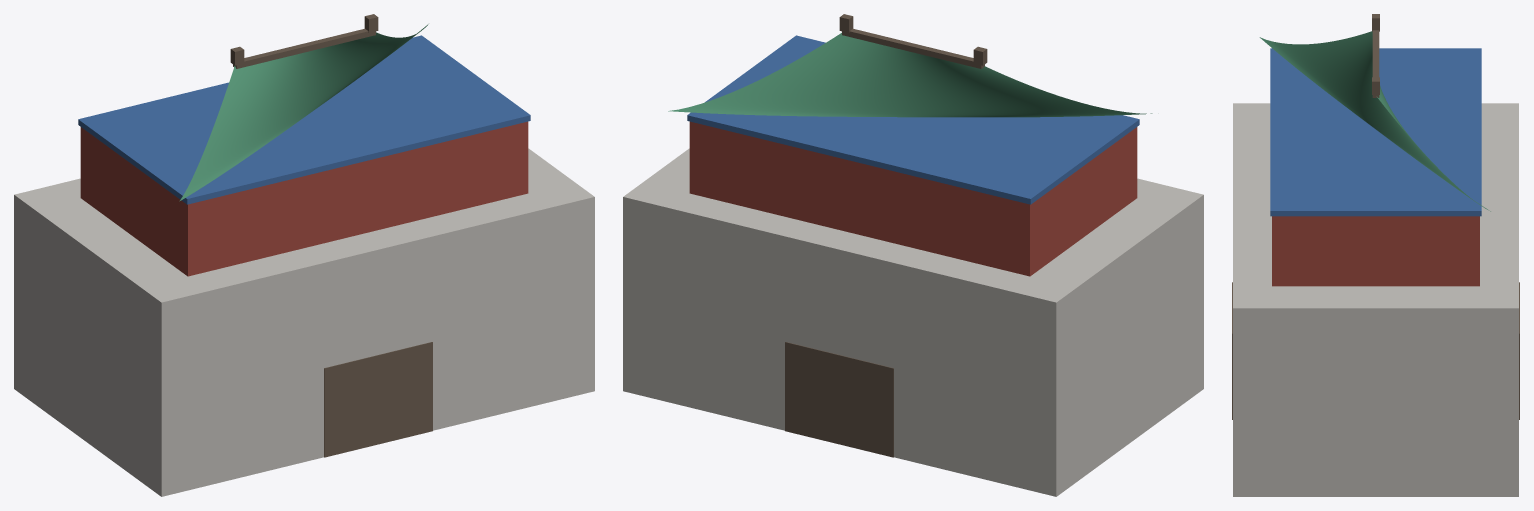
The model's file is gulou.glb.
3 renders of one model, left to right at view 1: azimuth 30°, elevation 25°; view 2: azimuth 150°, elevation 25°; view 3: azimuth 270°, elevation 25°, orthographic. The views are drawn at different scales.
Parts seen in each view (by area): view 1: gulou; view 2: gulou; view 3: gulou.
Part boxes in pixels (x1,y1,x2,y2): gulou: [14, 14, 594, 496]; gulou: [623, 14, 1203, 496]; gulou: [1232, 14, 1519, 496].
Size of the model in its own units: 56 by 44.1 by 33.2.
